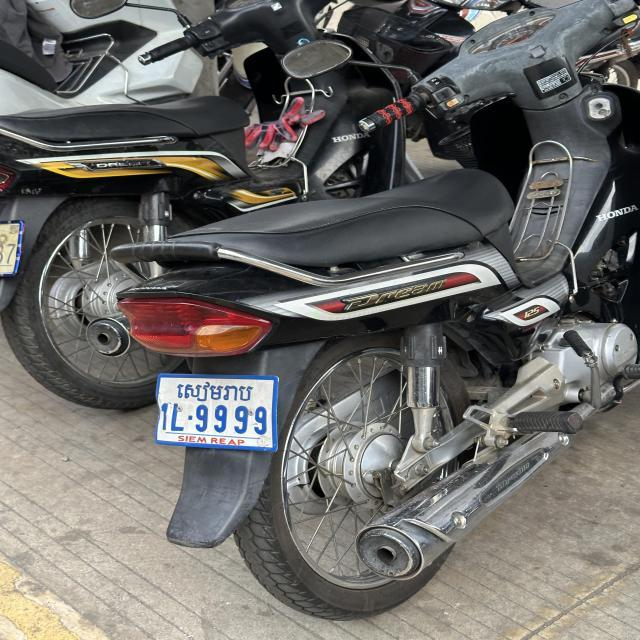Siem_Reap: (174, 380, 256, 404)
